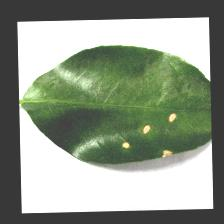canker: (109, 106, 189, 162)
